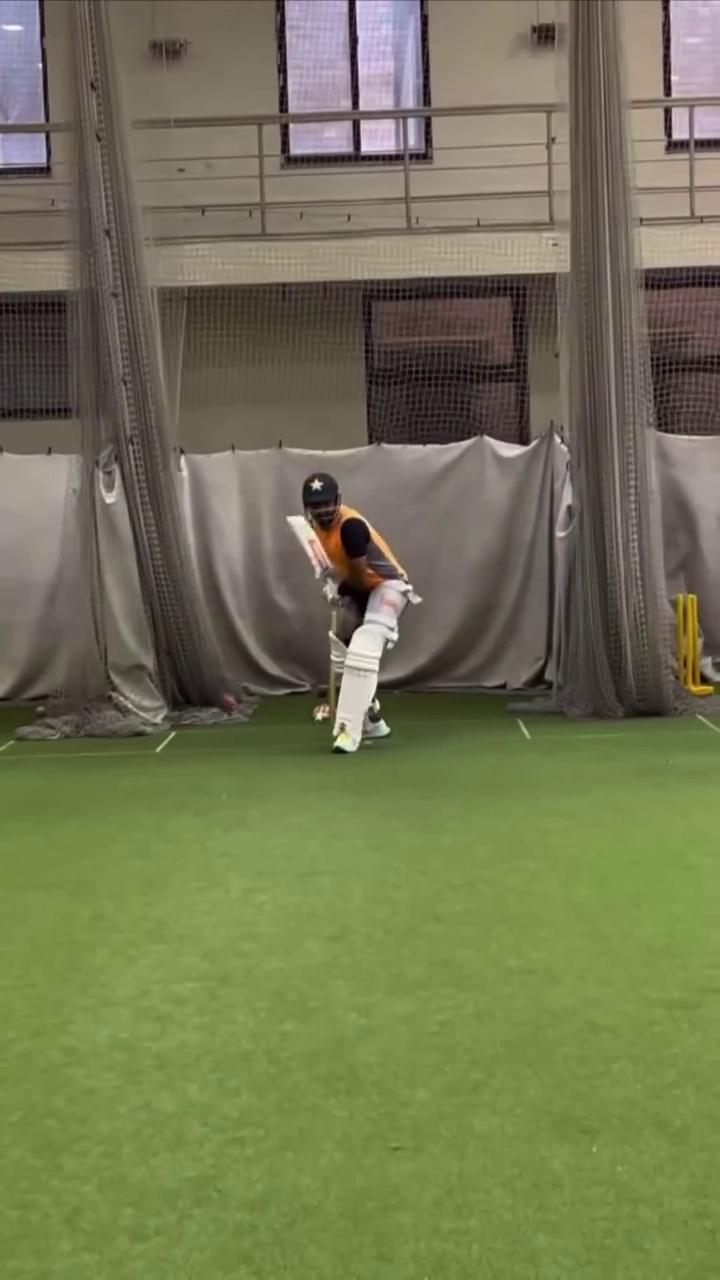bat: (283, 508, 334, 575)
